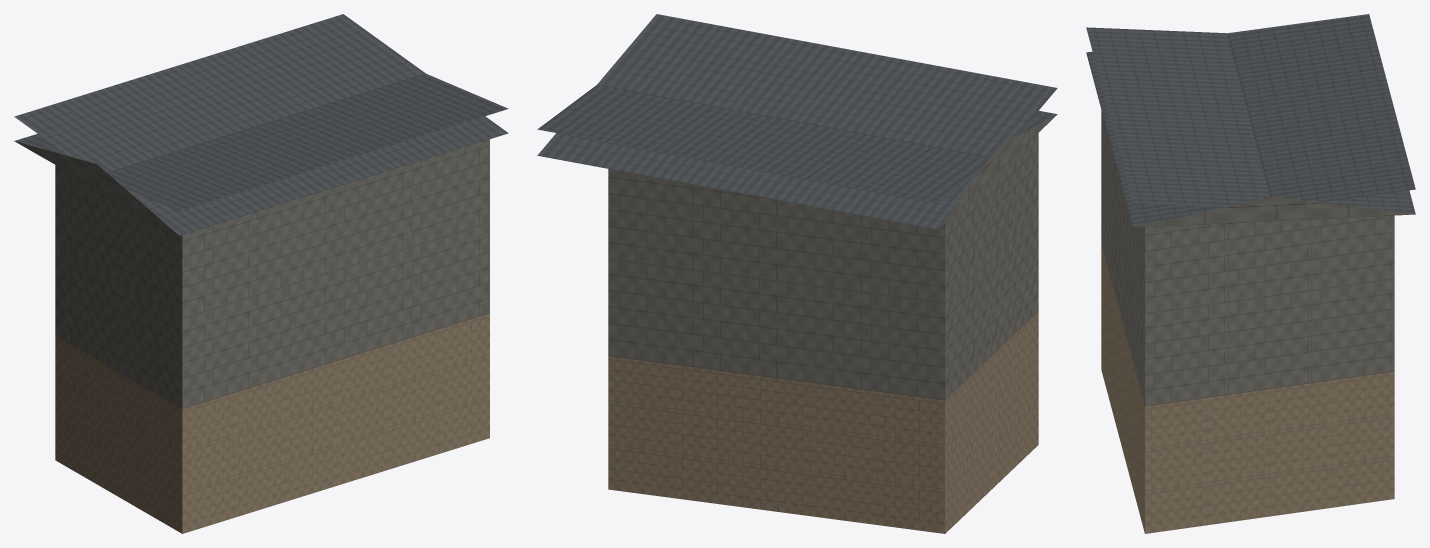
Rendered from bld_c42_-35_374.gltf.
3 views of the same model, side by side, from view 1: azimuth 30°, elevation 25°; view 2: azimuth 150°, elevation 25°; view 3: azimuth 270°, elevation 25° (orthographic). The views are drawn at different scales.
Parts seen in each view (by area): view 1: bld_c42_-35_374; view 2: bld_c42_-35_374; view 3: bld_c42_-35_374.
Part boxes in pixels (box(x1,y1,x2,y2)): bld_c42_-35_374: box(14, 14, 508, 533); bld_c42_-35_374: box(537, 14, 1057, 533); bld_c42_-35_374: box(1086, 14, 1415, 533).
Bounding box in the file's own units: 16.21 × 13.5 × 11.95.
Materials: 4 (4 with a texture image).
